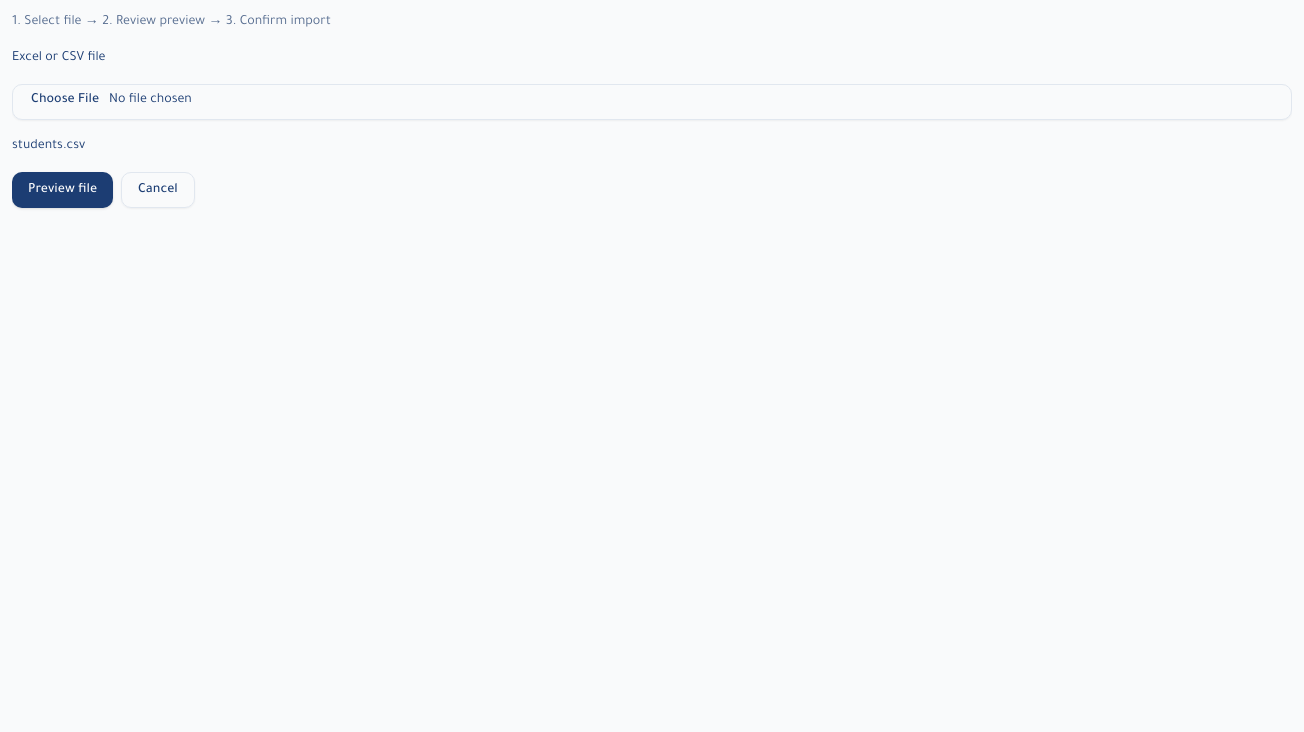
Test: mandatory external import review › cancel discards a draft and never imports
Earlier steps of the test are not shown.
Later steps or results of the test are not shown.
Click the button "Preview file": (63, 190) [12,172,113,208]
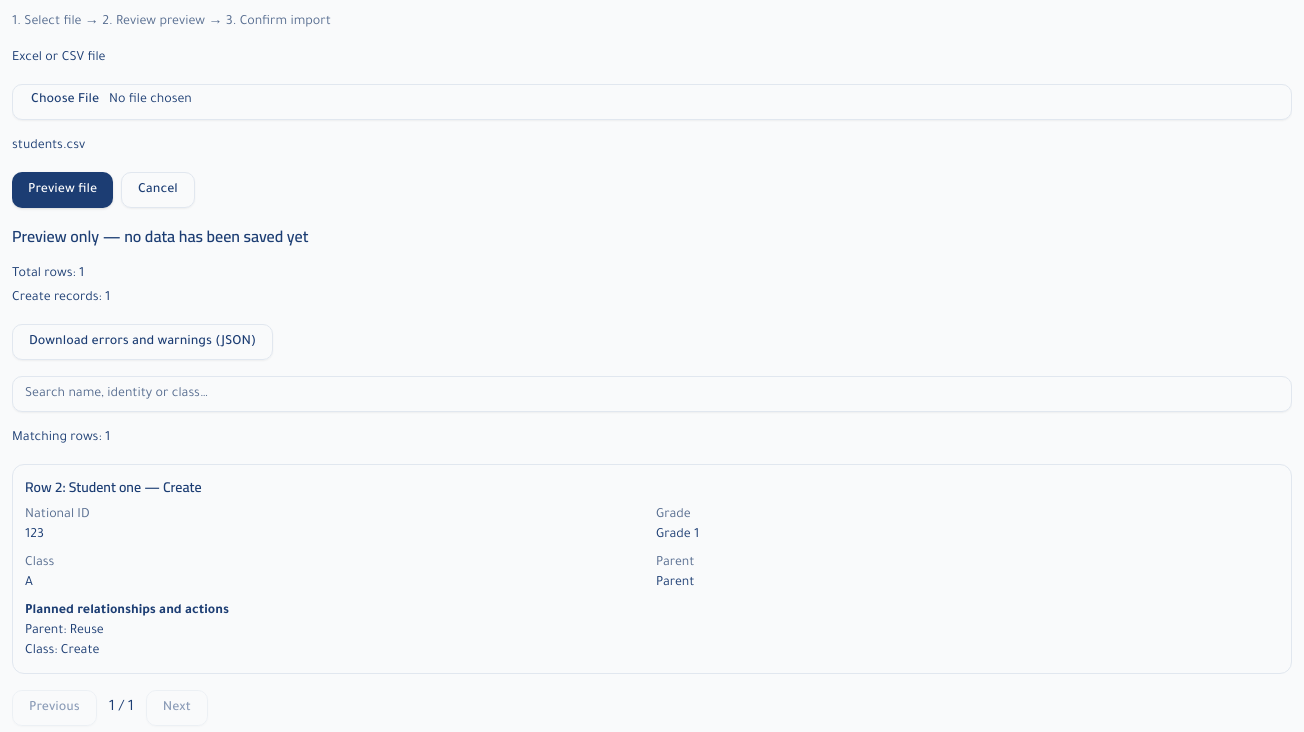
Expected: the heading "Preview only — no data has been saved yet" is shown, [12,221,308,251]
